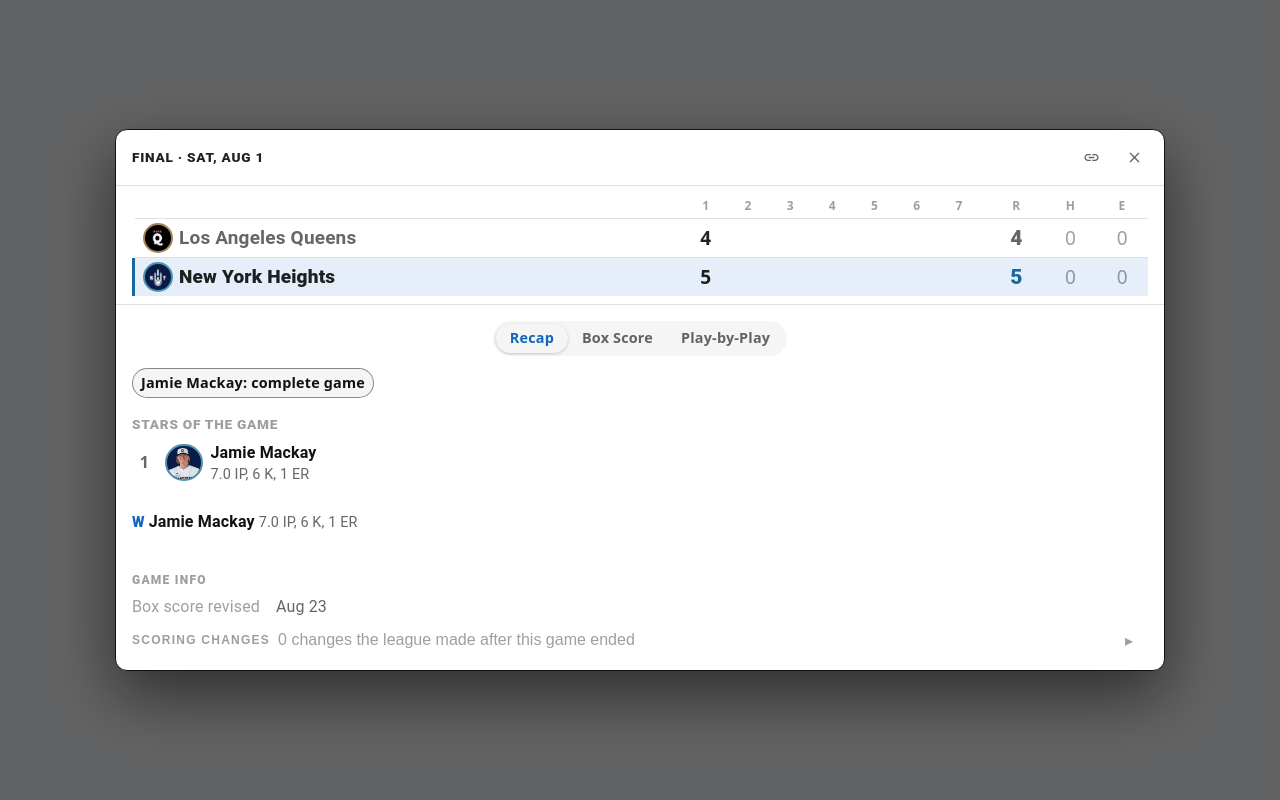
the scoring changelog › says so when a revision changed nothing it can describe
Click the text "Scoring changes" at (201, 640), box [132, 634, 270, 648]
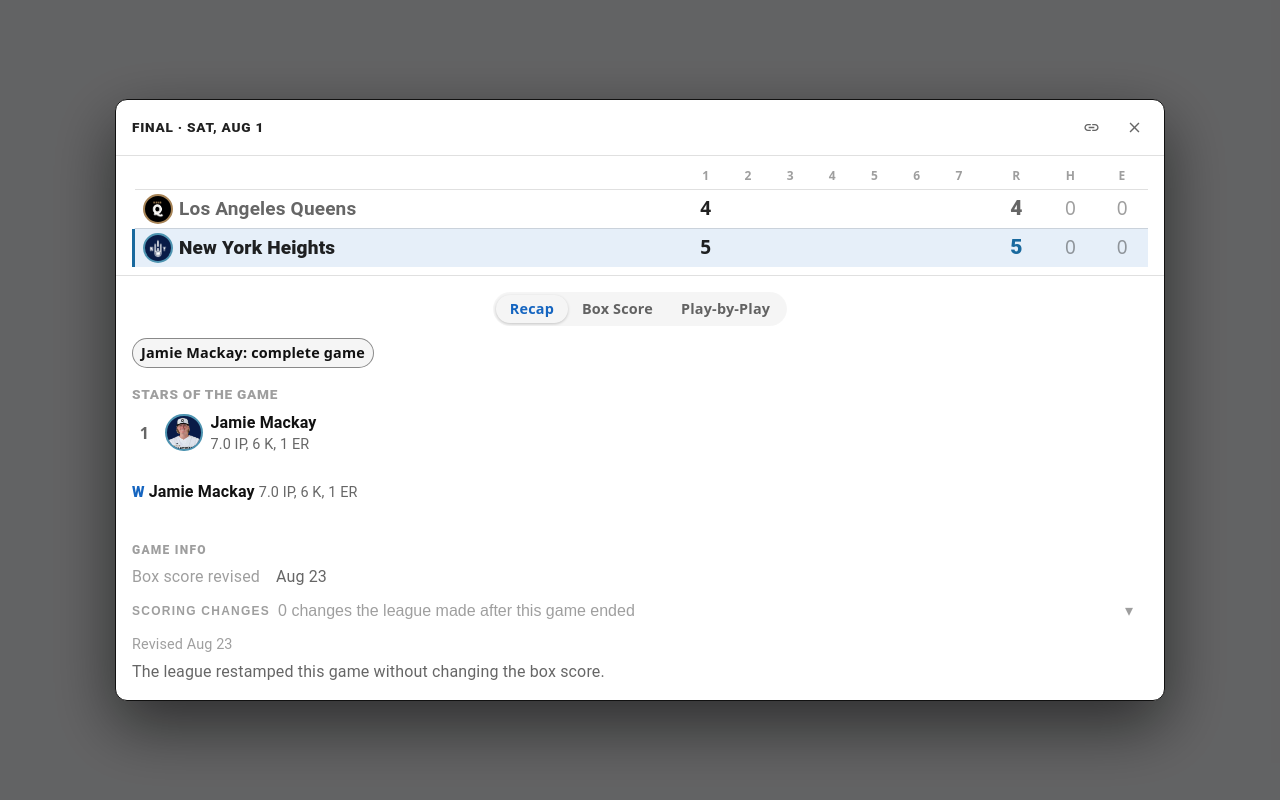
Now the text "The league restamped this game without changing the box score." is shown, box [132, 662, 605, 681]
